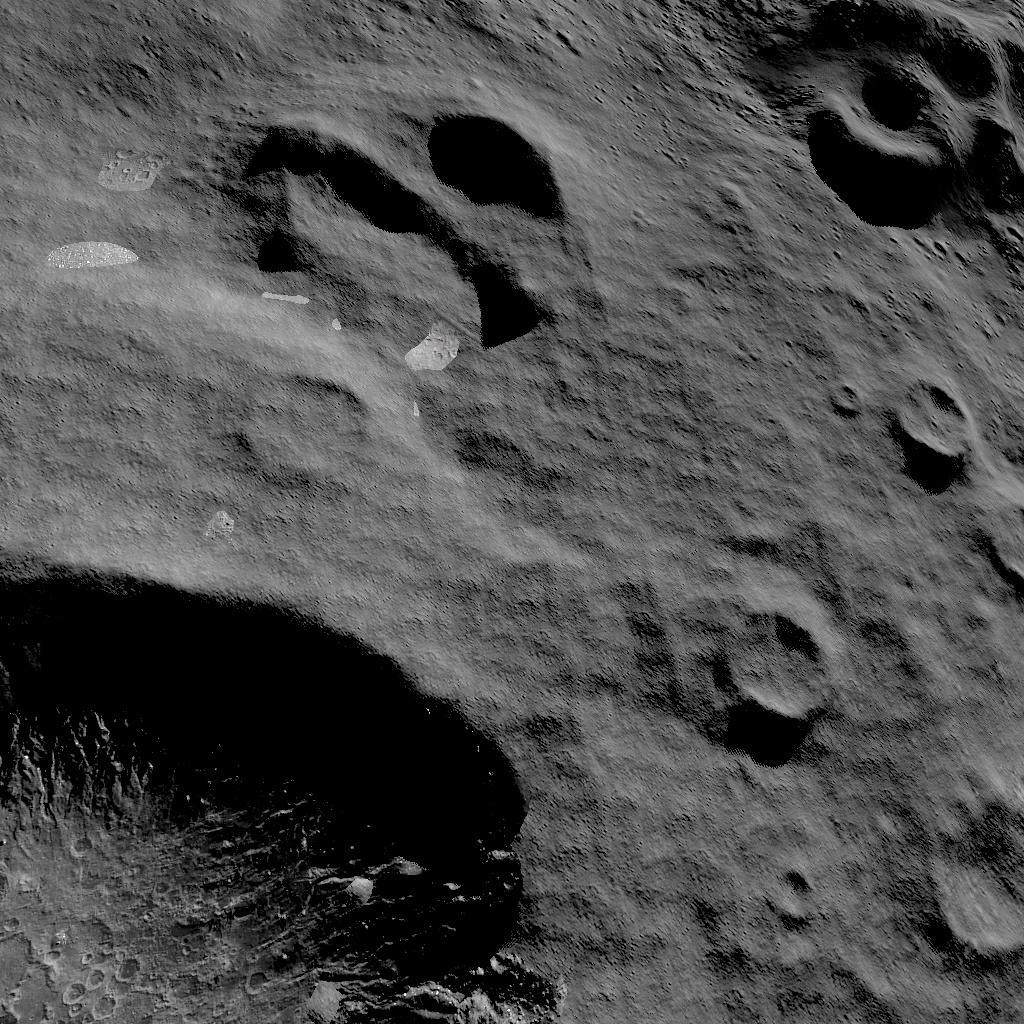Crater: (3, 550, 570, 1022), (244, 100, 575, 352), (728, 0, 1024, 241), (702, 576, 848, 740), (905, 776, 1024, 970), (892, 362, 997, 482)
Plan surface: (0, 0, 205, 486)
